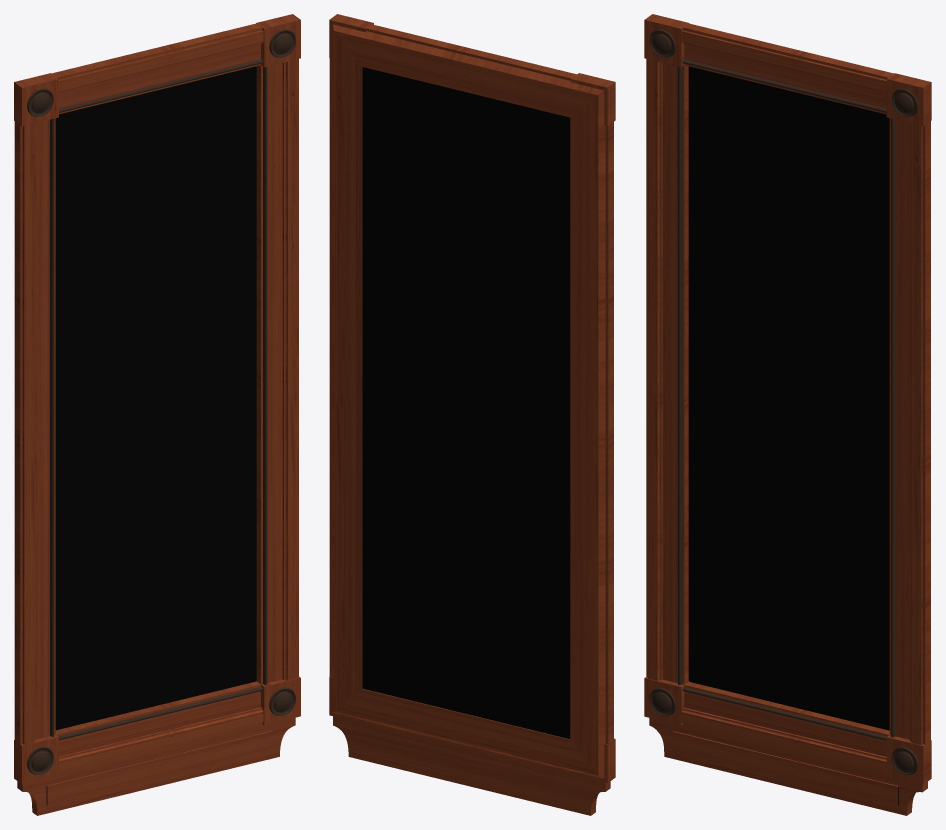
Rendered from classical_mirror.glb.
The picture shows the model from 3 angles, left to right: view 1: azimuth 30°, elevation 25°; view 2: azimuth 150°, elevation 25°; view 3: azimuth 330°, elevation 25°; orthographic projection.
Visible parts, largest first — view 1: Mirror_01; view 2: Mirror_01; view 3: Mirror_01.
Part boxes in pixels (box(x1,y1,x2,y2)): Mirror_01: box(14, 14, 300, 815); Mirror_01: box(329, 14, 615, 815); Mirror_01: box(644, 14, 931, 815).
Bounding box in the file's own units: 0.9025 × 2.27 × 0.0697.
3 materials, 1 textured.
